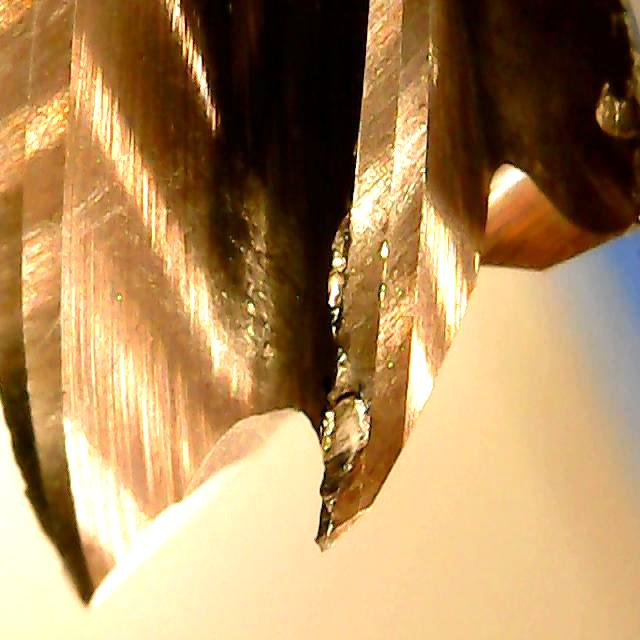Tool-wear-class-2: (301, 333, 431, 557)
